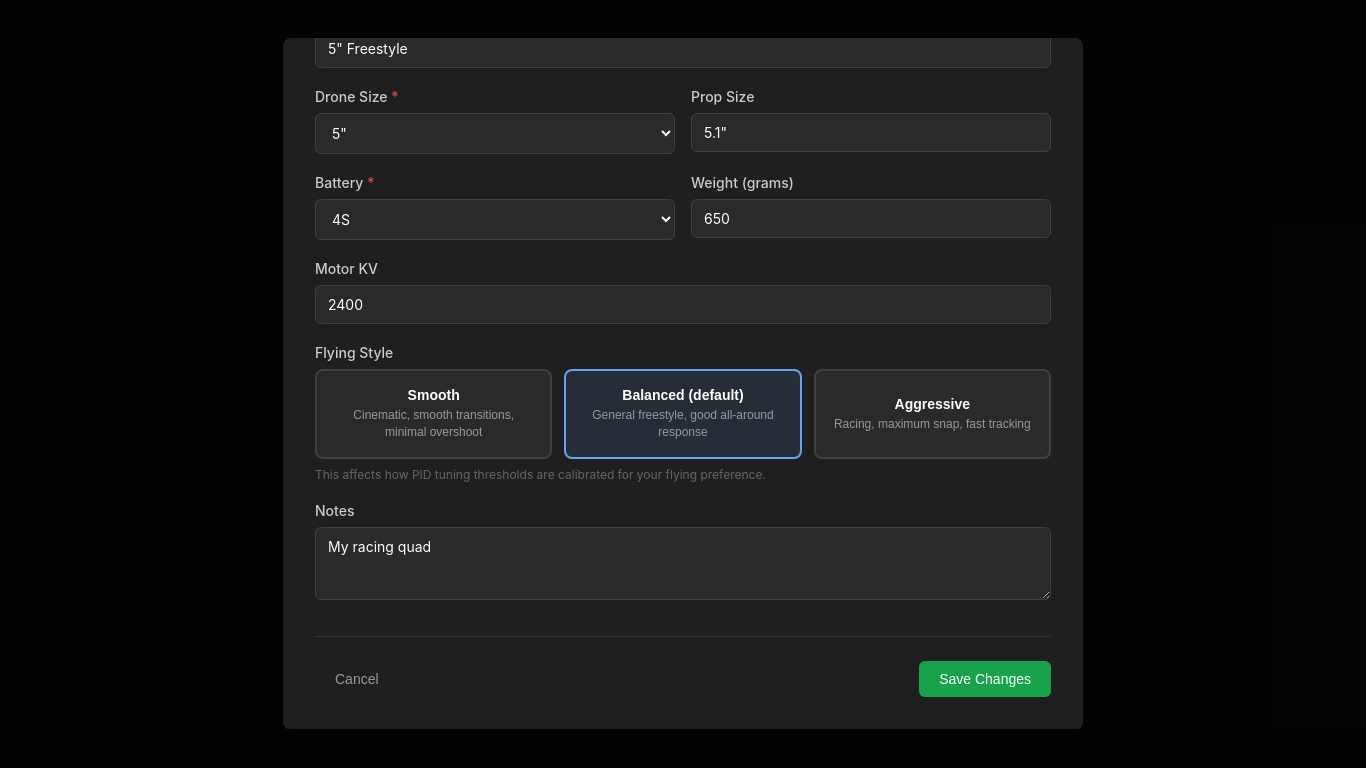
ProfileEditModal › shows loading state while saving
The width and height of the screenshot is (1366, 768).
(page scrolled)
Click the button "Save Changes" at (985, 679), box [919,661,1051,697]
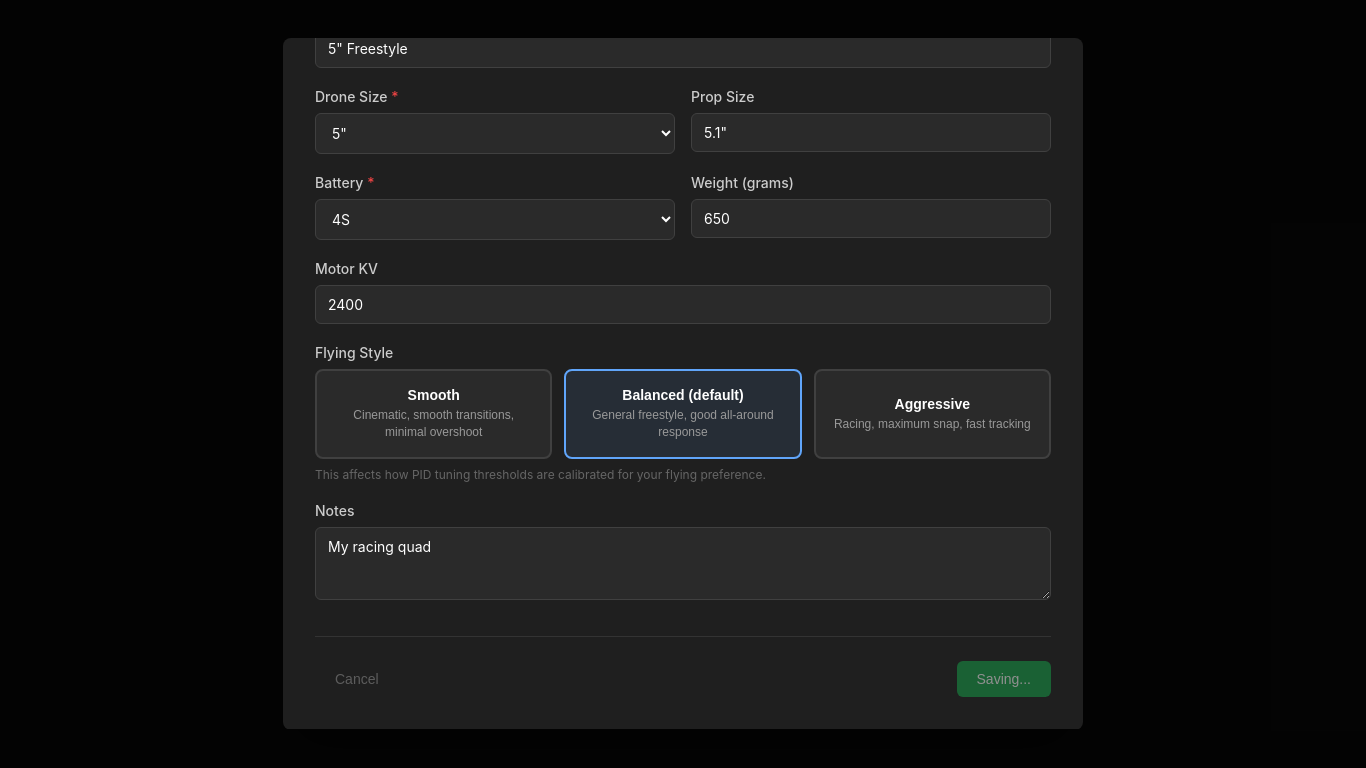
Check: the button "Saving..." is disabled, box [956,661,1051,697]
